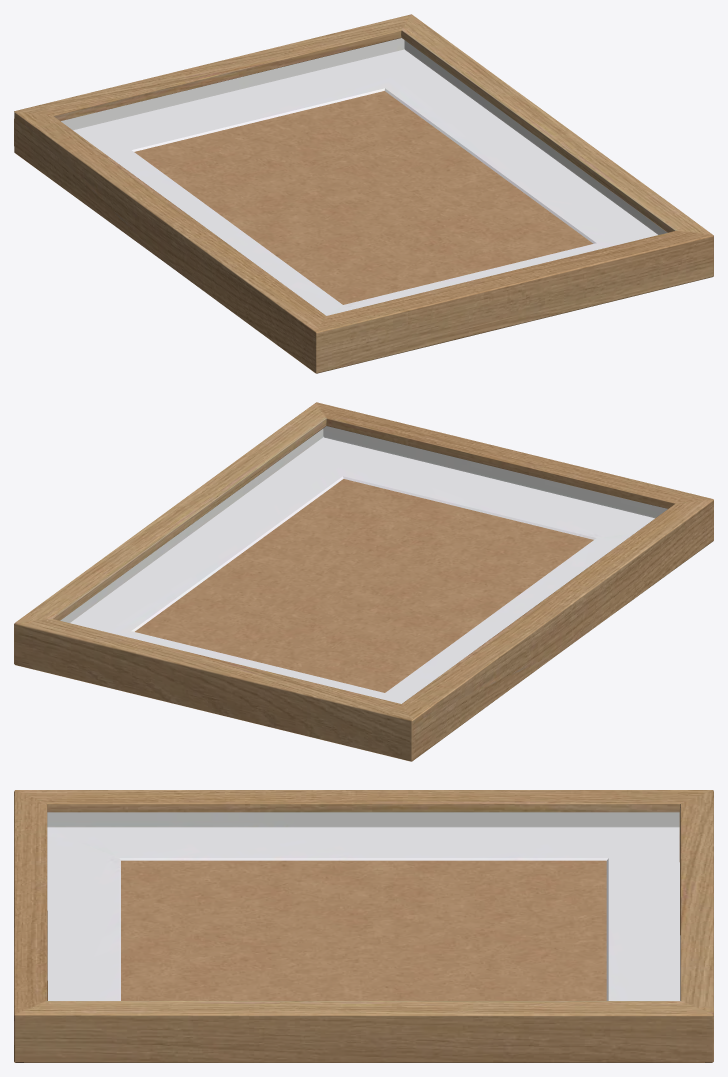
The model's file is medium-oak.glb.
The picture shows the model from 3 angles, top to bottom: view 1: azimuth 30°, elevation 25°; view 2: azimuth 150°, elevation 25°; view 3: azimuth 270°, elevation 25°; orthographic projection. The views are drawn at different scales.
Visible parts, largest first — view 1: ASY_ART_00566395_S01_NV01; view 2: ASY_ART_00566395_S01_NV01; view 3: ASY_ART_00566395_S01_NV01.
Part boxes in pixels (x1=…): ASY_ART_00566395_S01_NV01: x1=14, y1=14, x2=713, y2=373; ASY_ART_00566395_S01_NV01: x1=14, y1=402, x2=713, y2=761; ASY_ART_00566395_S01_NV01: x1=14, y1=790, x2=713, y2=1062.
Bounding box in the file's own units: 0.318 × 0.032 × 0.418.
Materials: 2 (1 with a texture image).
